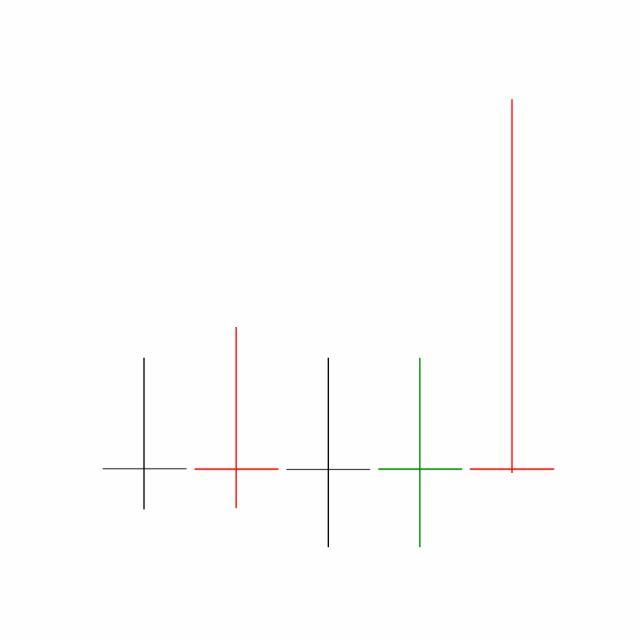Gravestone Doji: (466, 96, 559, 478)
